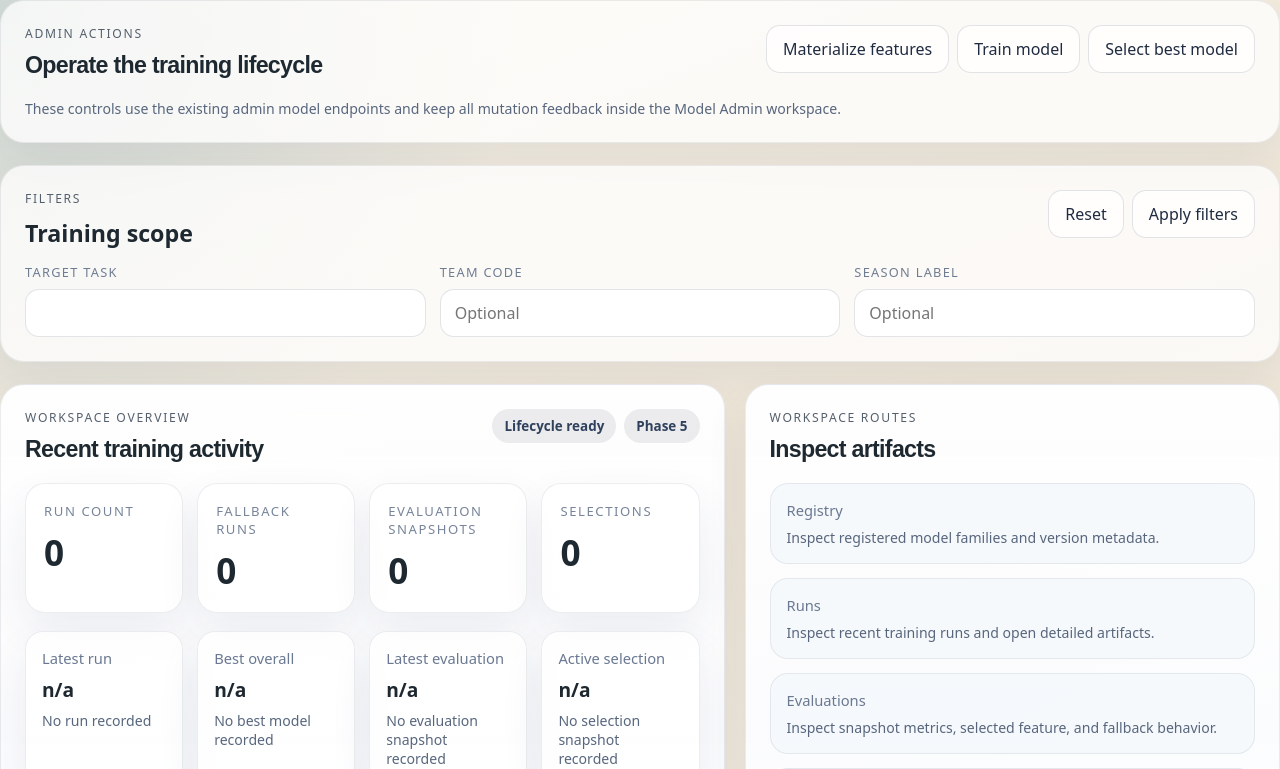
ModelAdminWorkspace › shows a success mutation banner after training and exposes the follow-up action
This screenshot has width=1280, height=769.
Check: the heading "Recent training activity" is shown, box [25,436,263,463]
Step 1. Click the button "Train model" → {"x": 1019, "y": 49}, box [957,25,1080,73]
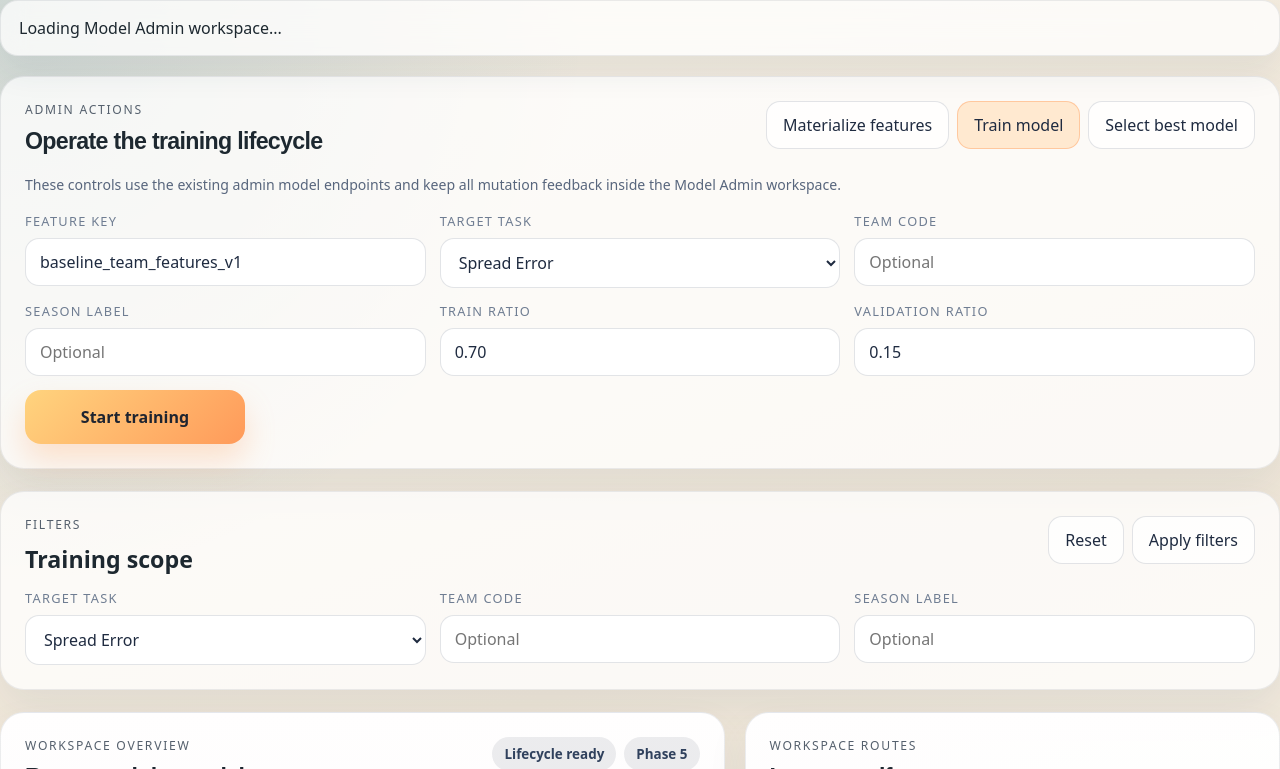
Step 2. Click the button "Start training" → {"x": 135, "y": 417}, box [25,390,245,444]
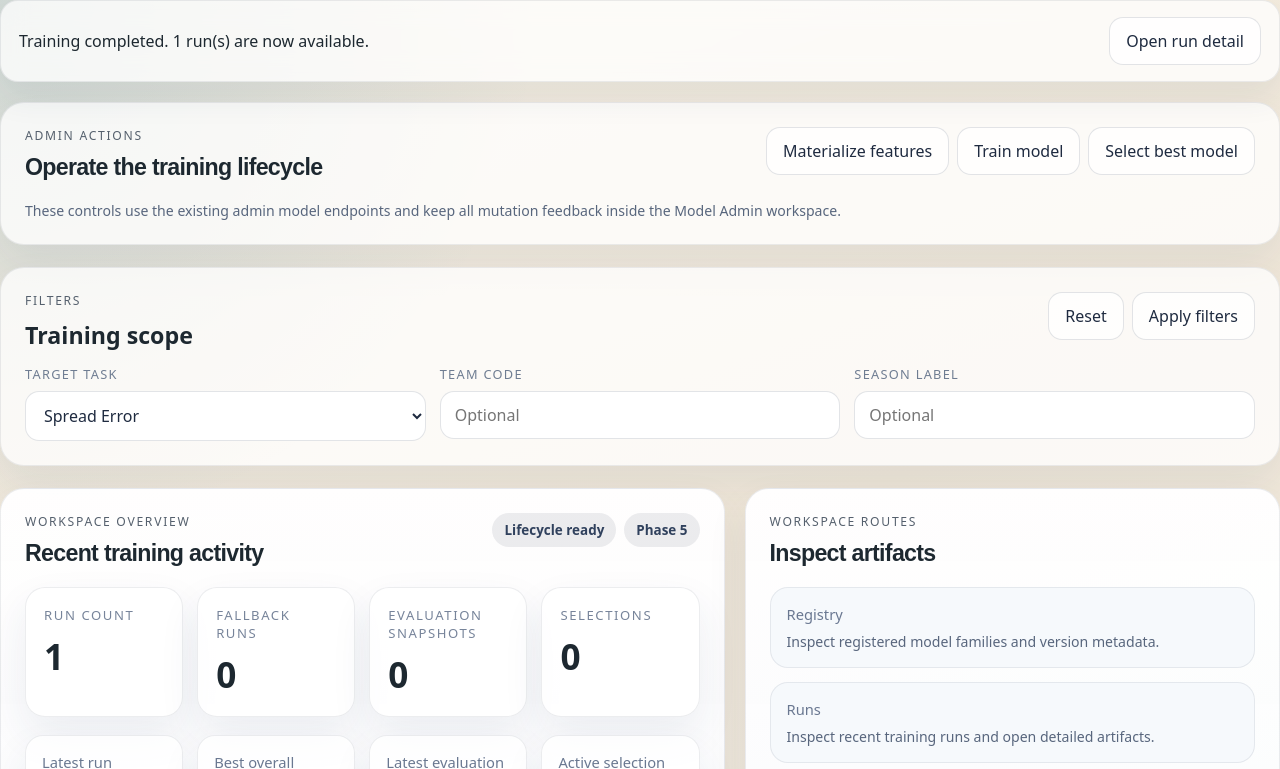
Check: the text "Training completed. 1 run(s) are now available." is shown, box [19,30,369,52]
Check: the button "Open run detail" is shown, box [1109,17,1261,65]
